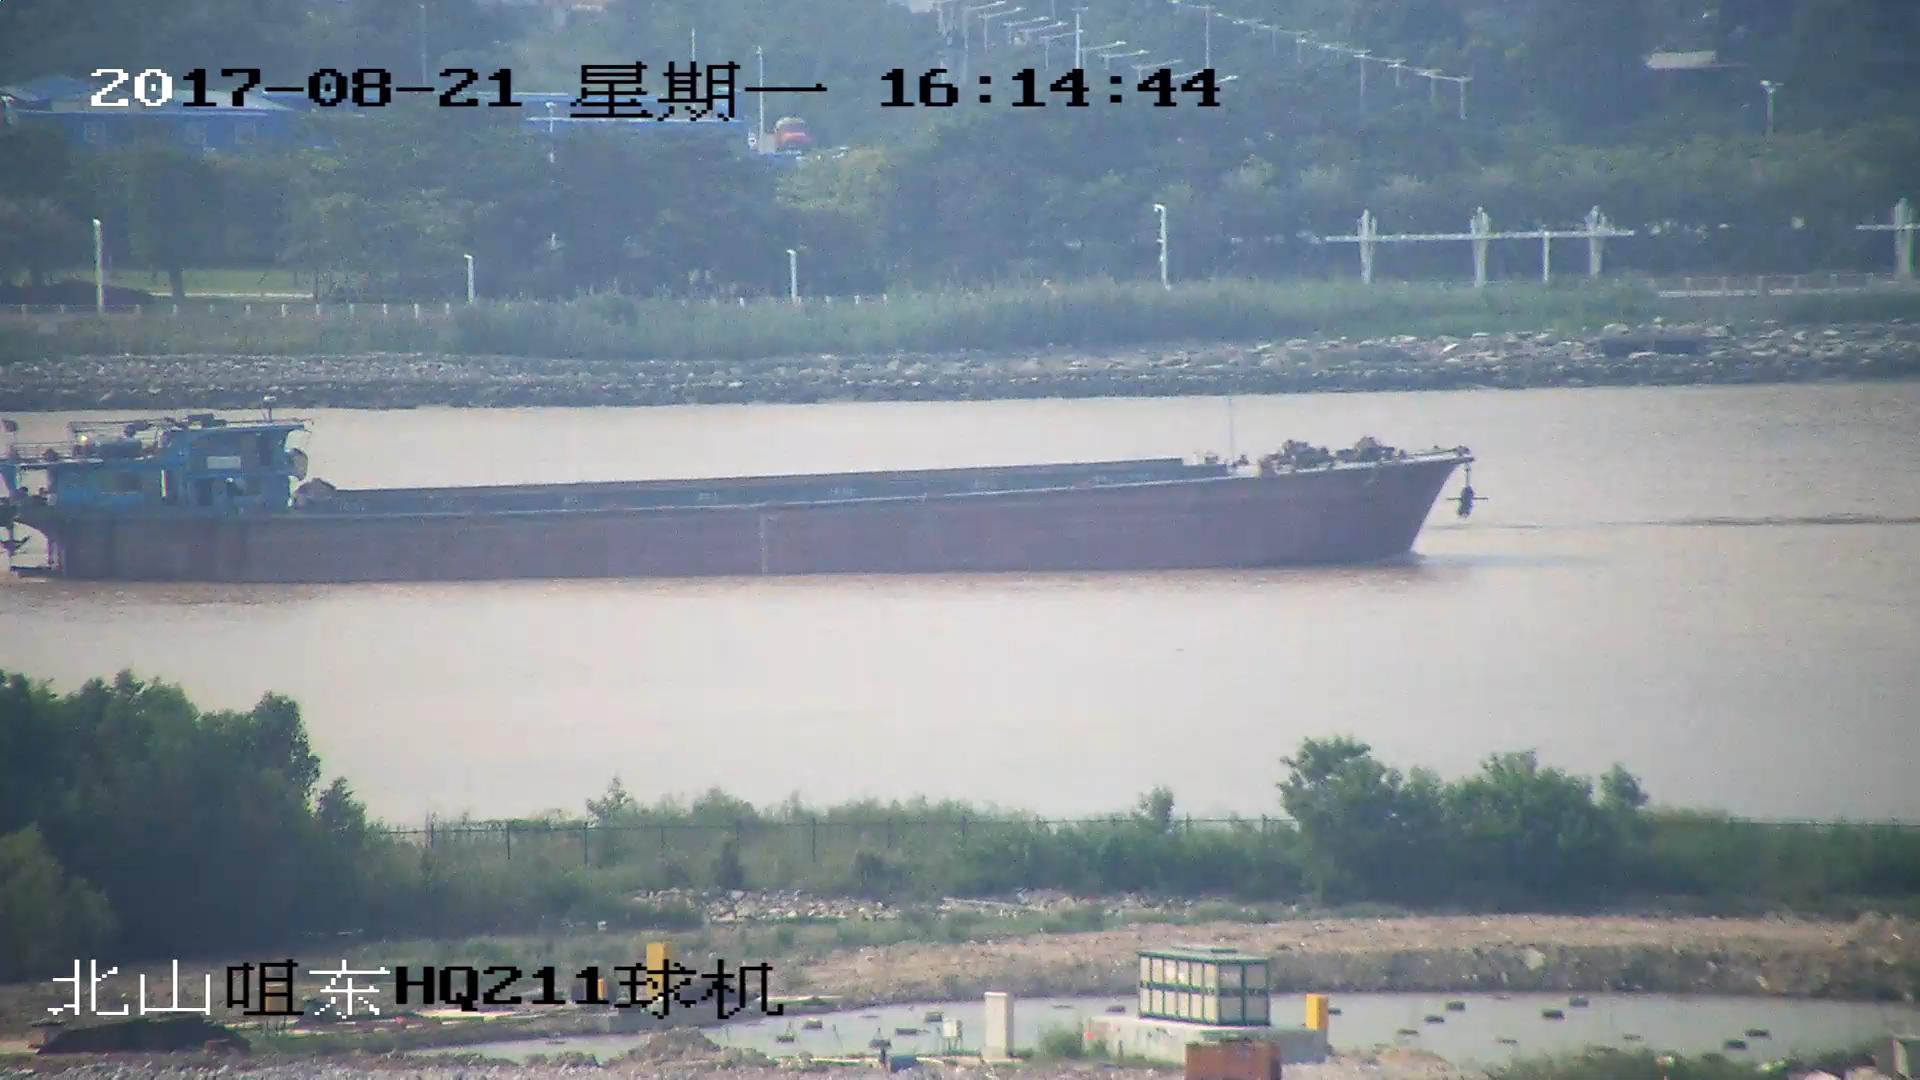bulk cargo carrier: (1, 418, 1479, 589)
